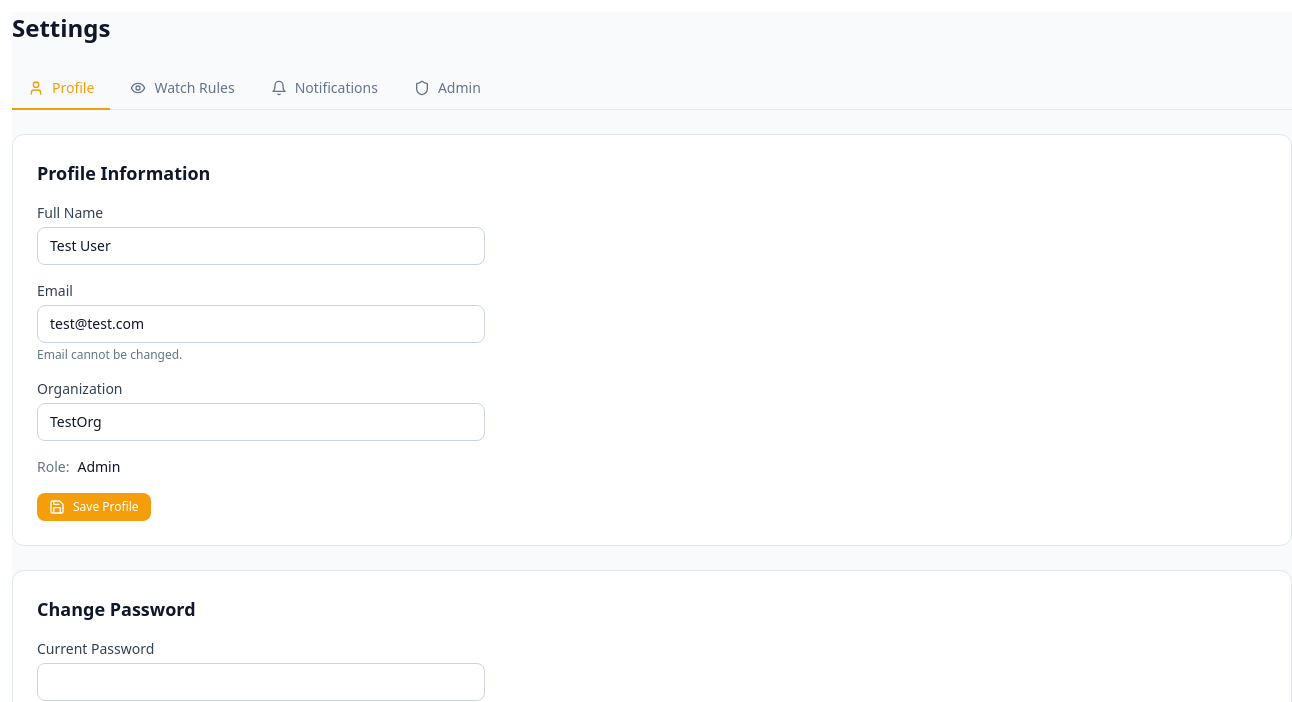
Test case: Settings tab navigation › switches to Admin tab
What coordinates should you click on to do the following:
click the tab "Admin"
I would click on:
 (447, 89)
Its box is [398,68,497,110].
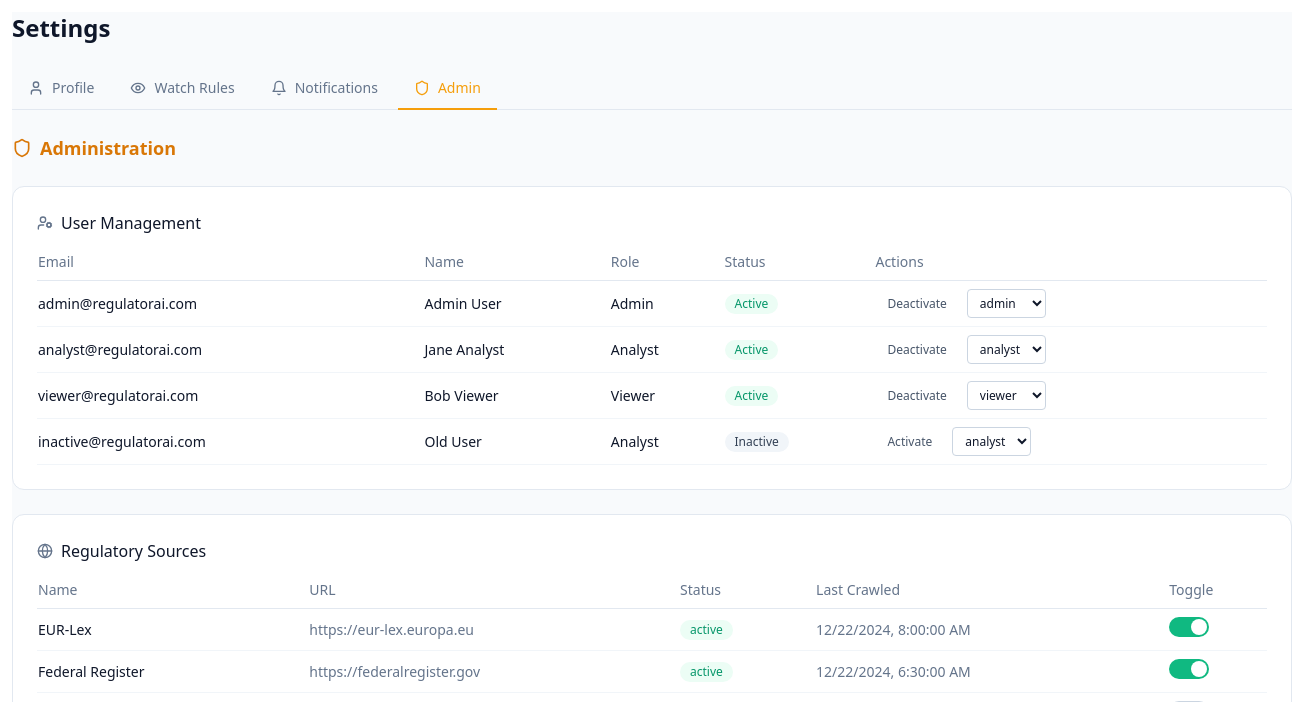
Now the heading "Administration" is shown, box [40,134,176,162]
Now the heading "User Management" is shown, box [61,211,201,235]
